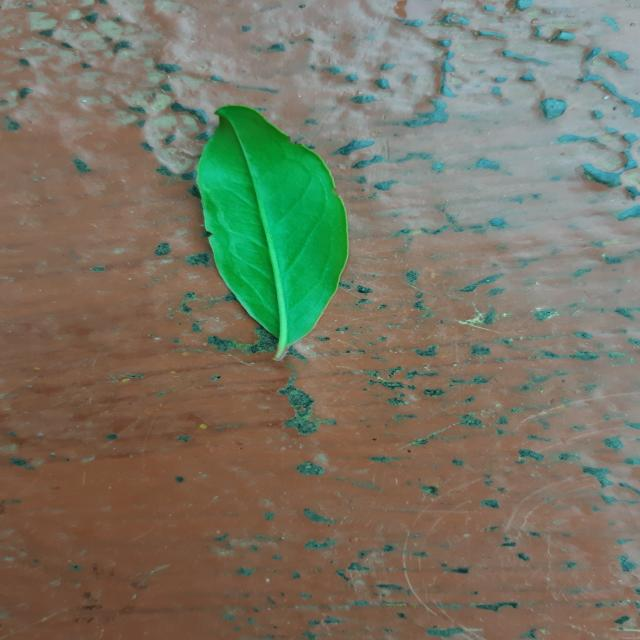pomgranate: (198, 105, 349, 360)
